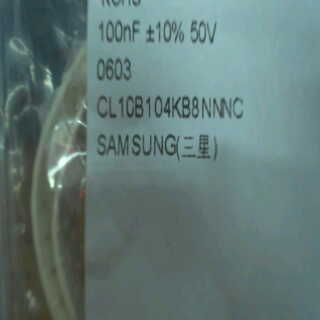100nF: (90, 11, 145, 49)
